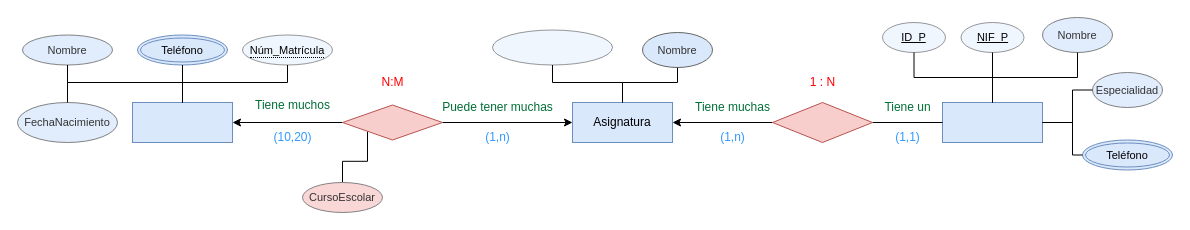
This 1190x230 diagram has some shape labels left out. Each missing label, with the centre of its shape:
"AL-ASIG" belongs at (392,122).
"Alumno" belongs at (182,122).
"Código_Asignatura" belongs at (552,47).
"PROF-ASIG" belongs at (822,122).
"Profesor" belongs at (992,122).
